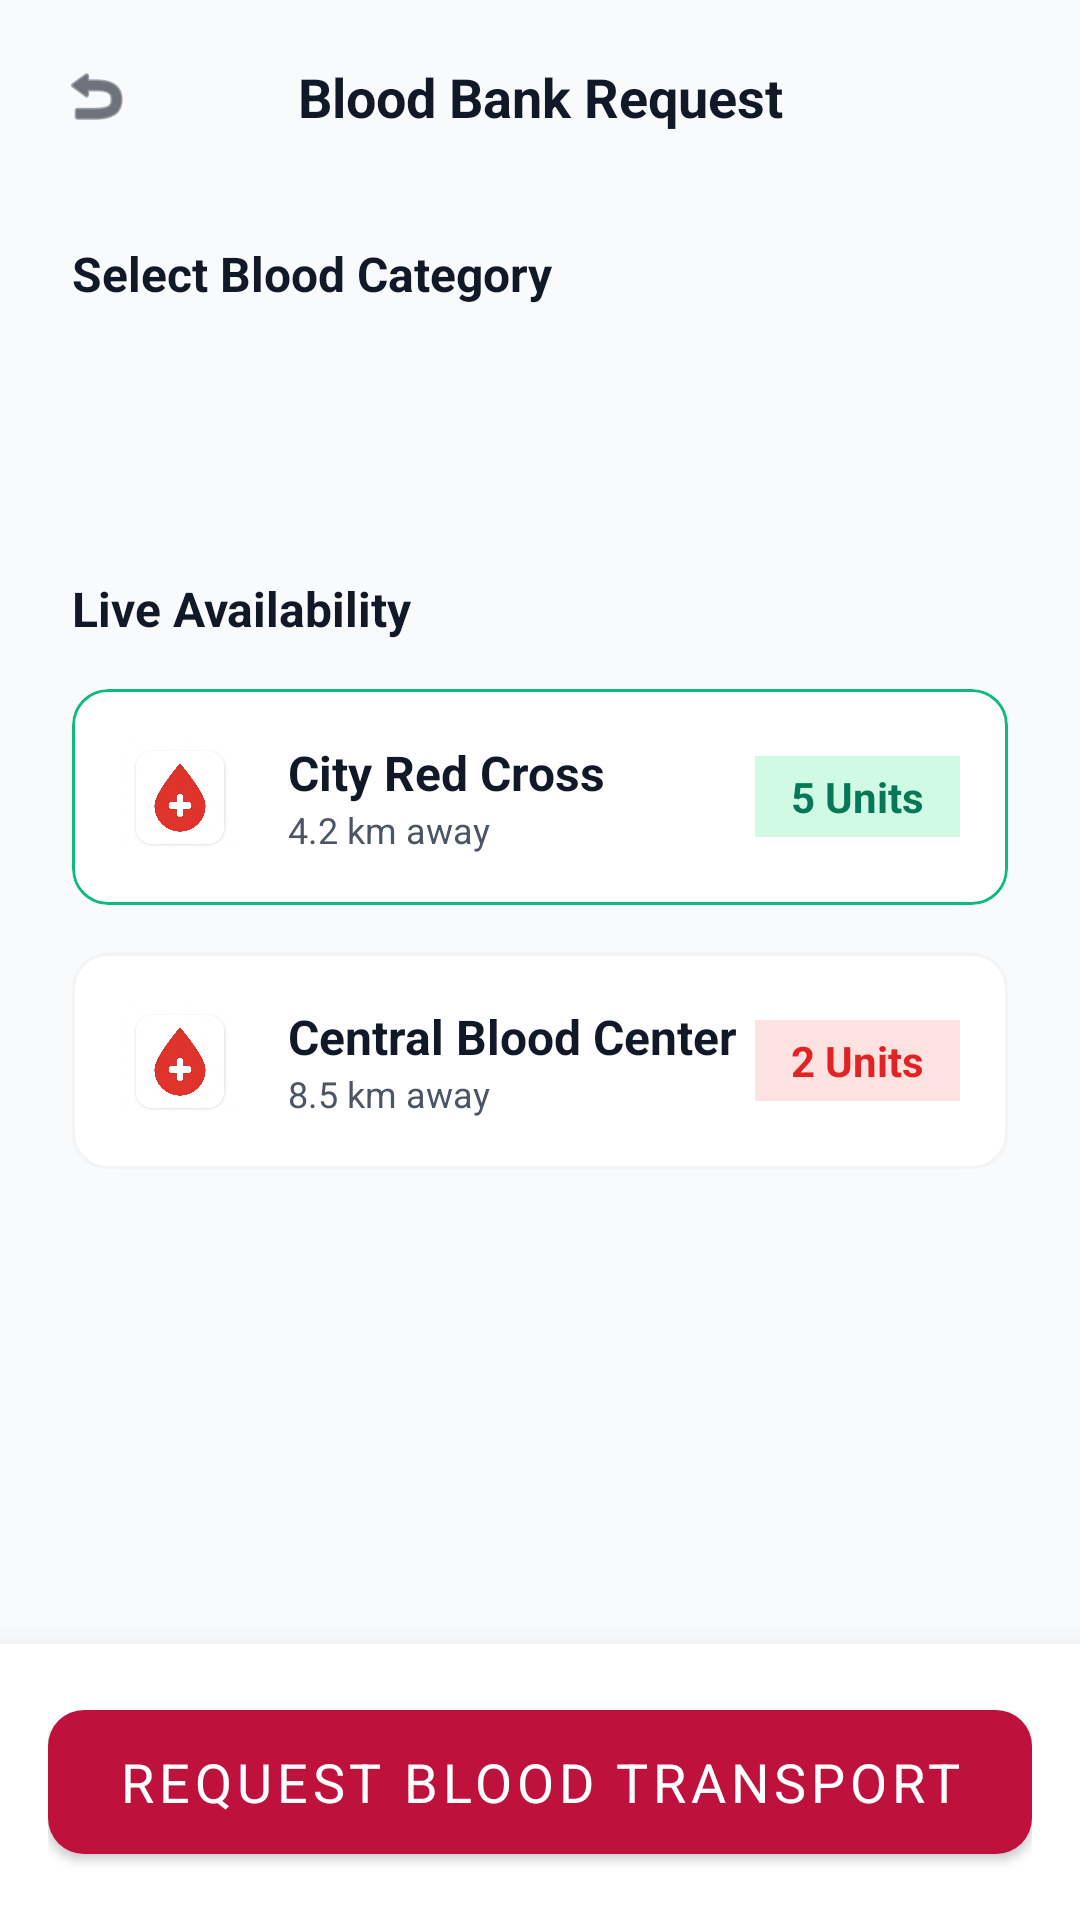

Screen size 1080 × 1920. Icon name, then its center in pixels as (x,y):
blood bank: (185,804), (185,1068)
revert: (97,96)
